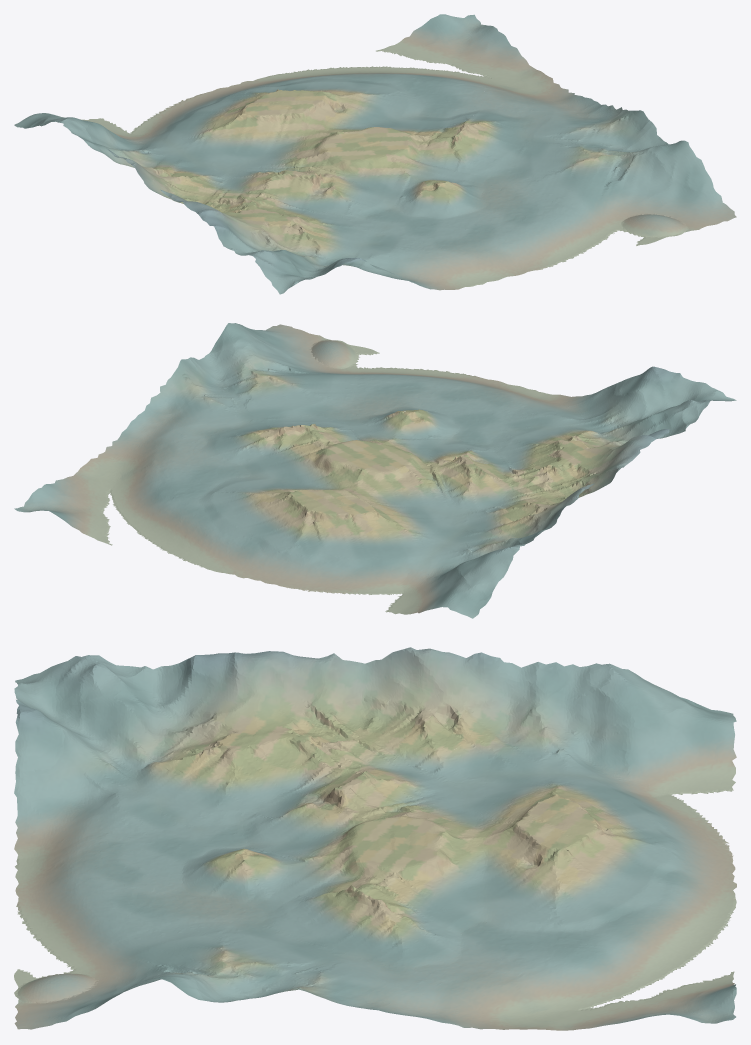
The model's file is sect_nihang_ground.glb.
3 renders of one model, top to bottom at view 1: azimuth 30°, elevation 25°; view 2: azimuth 150°, elevation 25°; view 3: azimuth 270°, elevation 25°, orthographic. The views are drawn at different scales.
Parts seen in each view (by area): view 1: ground; view 2: ground; view 3: ground.
Part boxes in pixels (x1,y1,x2,y2): ground: (14,14,736,294); ground: (14,323,736,618); ground: (14,647,736,1030).
Size of the model in its own units: 3545 by 457 by 3544.
